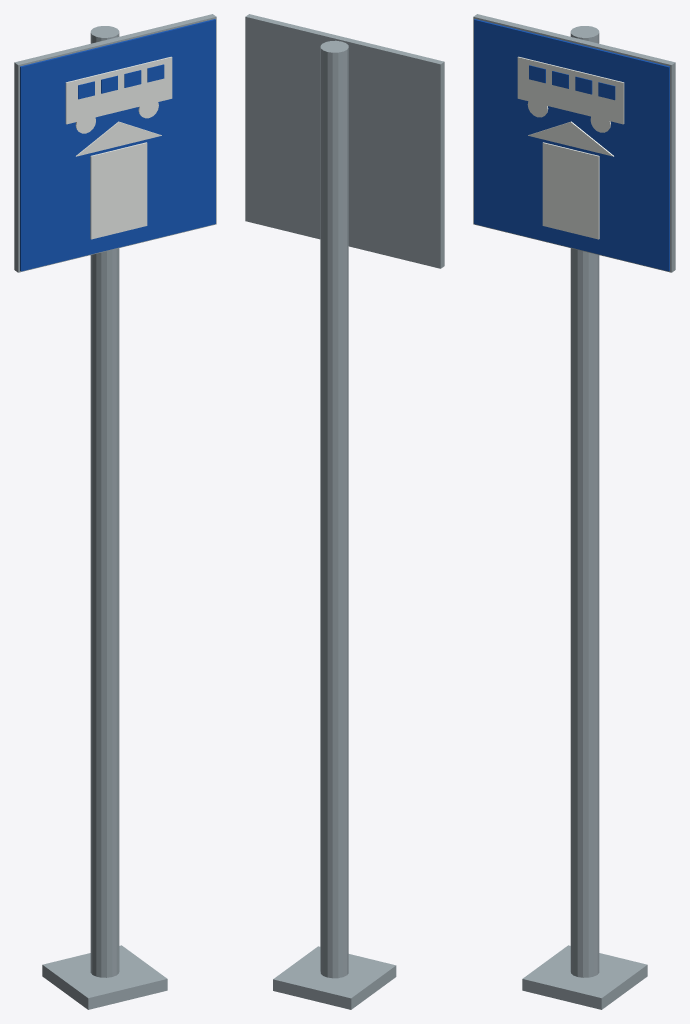
Rendered from PT_Sign_5_14_BusLane.glb.
The picture shows the model from 3 angles, left to right: view 1: azimuth 30°, elevation 25°; view 2: azimuth 150°, elevation 25°; view 3: azimuth 330°, elevation 25°; orthographic projection.
Parts seen in each view (by area): view 1: Face_Blue, Post, Pictogram, Plate_Back, Pictogram_Windows; view 2: Plate_Back, Post; view 3: Face_Blue, Post, Pictogram, Plate_Back, Pictogram_Windows.
Boxes of the visible parts, left/top/right/bottom form: Face_Blue: left=20, top=19, right=215, bottom=271; Post: left=42, top=26, right=167, bottom=1009; Pictogram: left=65, top=56, right=172, bottom=239; Plate_Back: left=14, top=14, right=216, bottom=272; Pictogram_Windows: left=78, top=64, right=164, bottom=99; Plate_Back: left=245, top=14, right=444, bottom=268; Post: left=273, top=40, right=396, bottom=1009; Face_Blue: left=474, top=19, right=669, bottom=271; Post: left=522, top=26, right=647, bottom=1009; Pictogram: left=517, top=56, right=624, bottom=239; Plate_Back: left=473, top=14, right=675, bottom=272; Pictogram_Windows: left=529, top=65, right=615, bottom=100.
Size of the model in its own units: 0.6 by 2.75 by 0.24.
